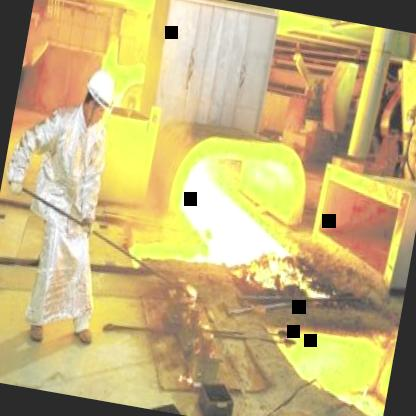helmet: (78, 63, 119, 134)
